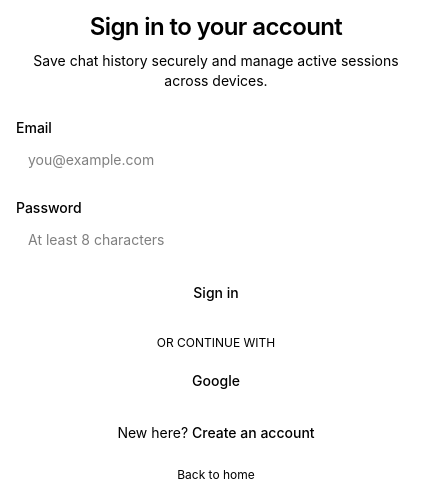
Scenario: SignInForm Two-Factor challenge › accepts a one-time backup code when the authenticator is unavailable
Step 1. Type "admin@example.com" into the field labelled "Email" → (216, 159), box 16,139 -> 416,179
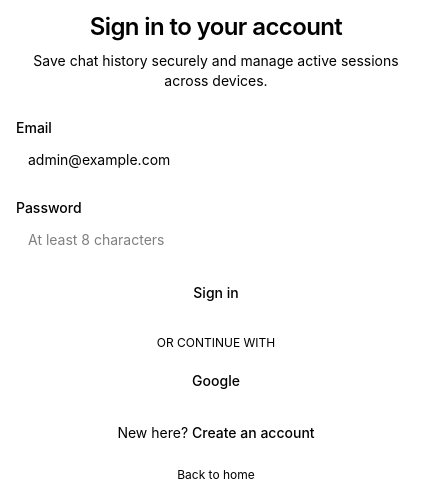
Step 2. Type "correct horse battery staple" into the password field labelled "Password" → (216, 239), box 16,219 -> 416,259
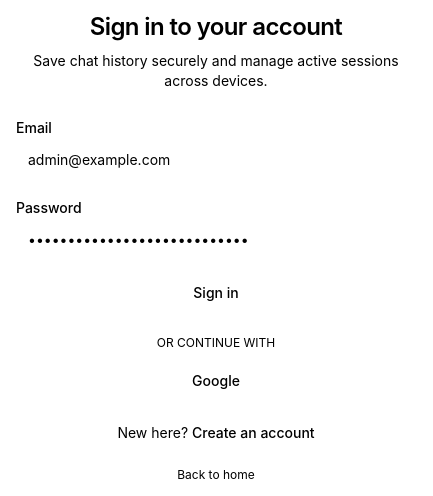
Step 3. Click the button "Sign in" → (216, 293), box 16,275 -> 416,311
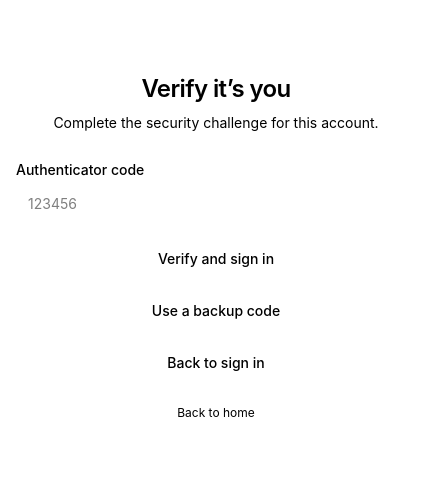
Now the field labelled "Authenticator code" is shown, box 16,181 -> 416,225
Step 4. Click the button "Use a backup code" → (216, 311), box 16,293 -> 416,329
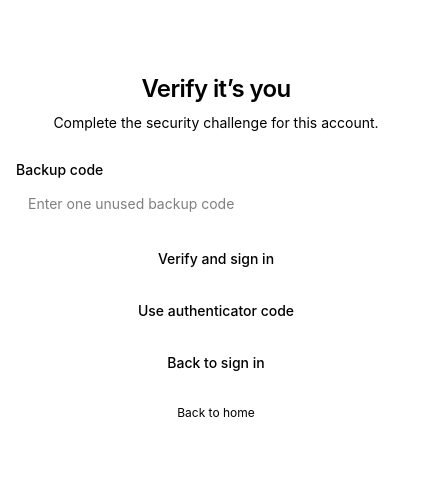
Step 5. Type "single-use-backup" into the field labelled "Backup code" → (216, 203), box 16,181 -> 416,225
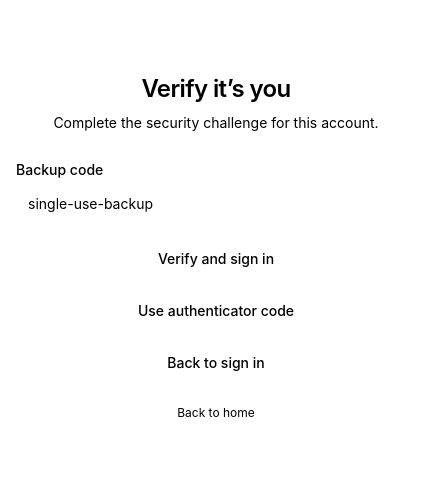
Step 6. Click the button "Verify and sign in" → (216, 259), box 16,241 -> 416,277
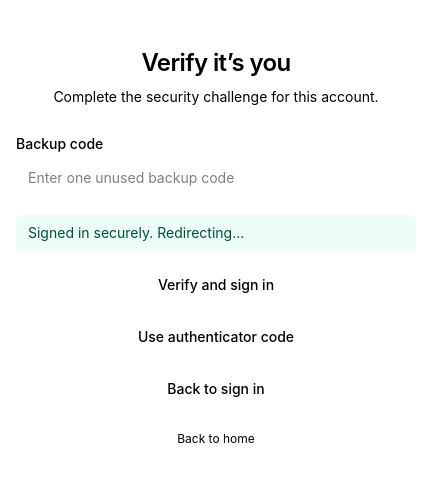
Now the message shows "Signed in securely", box 28,224 -> 244,241
